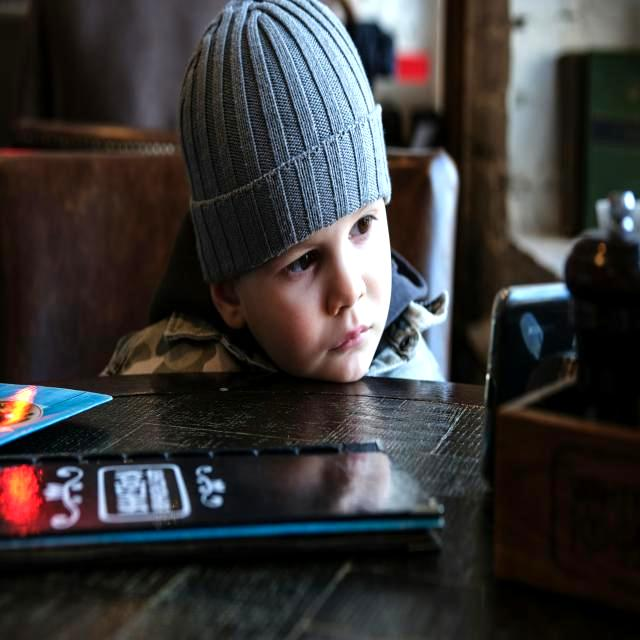no_hard_hat: (179, 0, 391, 283)
person: (102, 0, 440, 382)
